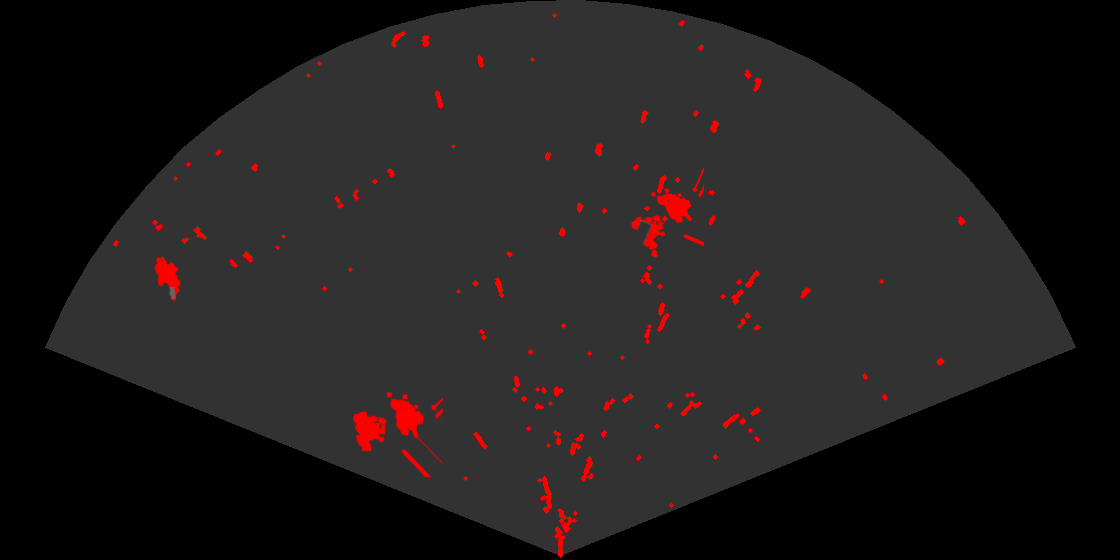AUV: (153, 255, 182, 303)
cage: (351, 390, 443, 477), (630, 166, 704, 251)
